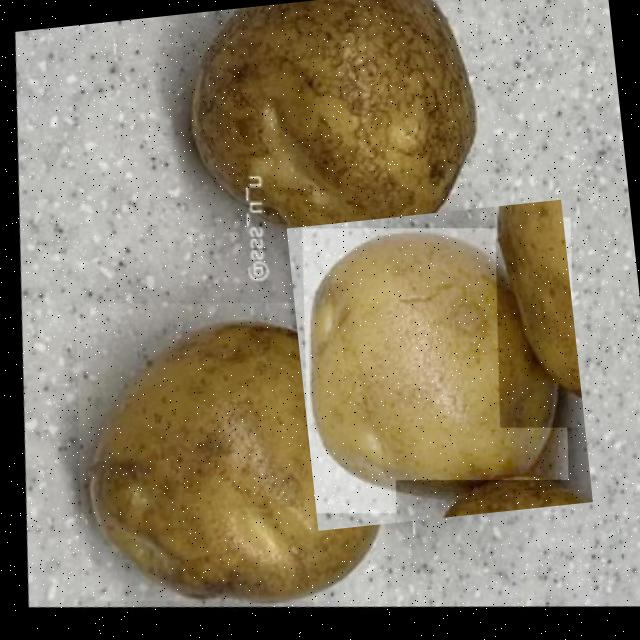Potato: (52, 284, 406, 638), (286, 198, 592, 530), (161, 0, 496, 283)
